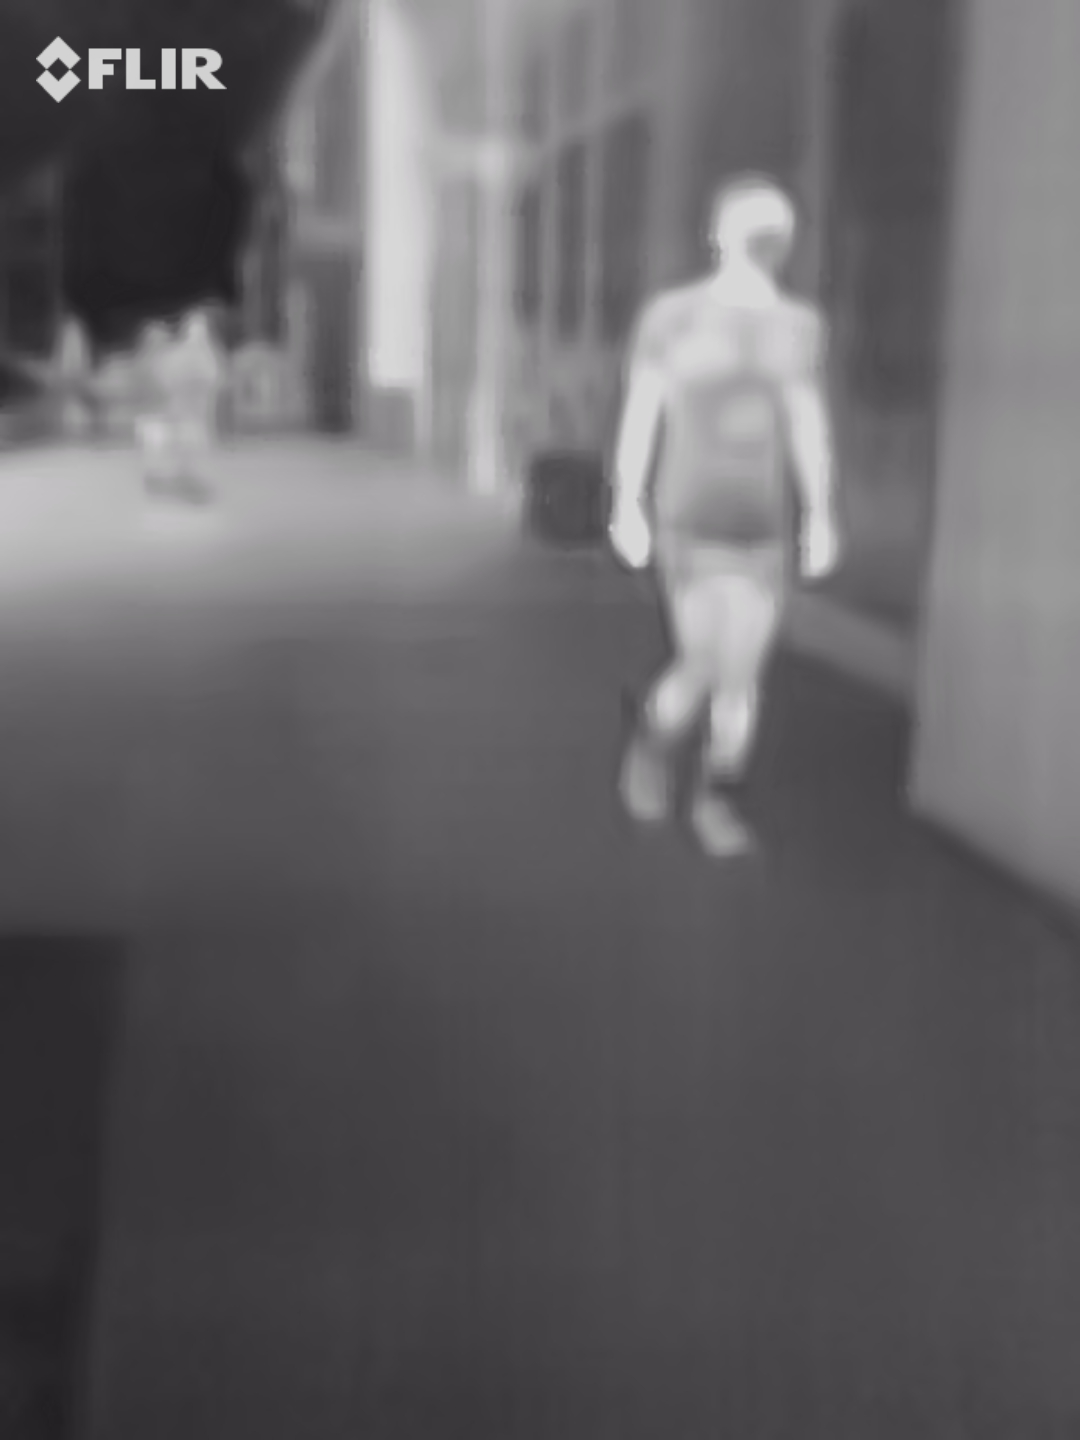head: (704, 168, 798, 300)
